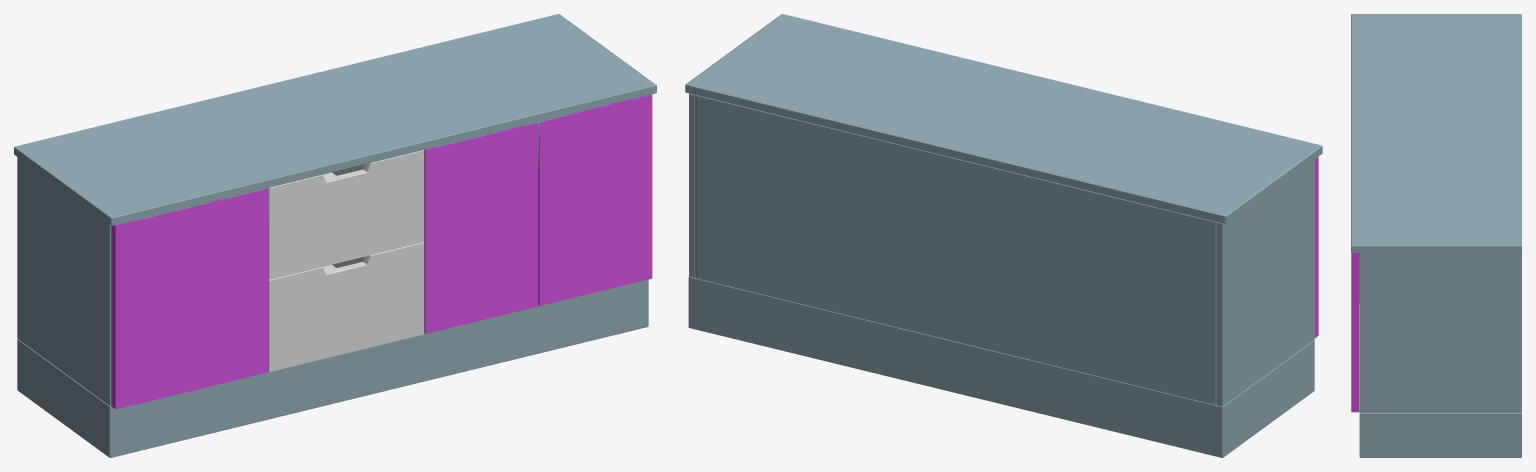
The model's file is armario lavadero.FBX.
The picture shows the model from 3 angles, left to right: view 1: azimuth 30°, elevation 25°; view 2: azimuth 150°, elevation 25°; view 3: azimuth 270°, elevation 25°; orthographic projection. The views are drawn at different scales.
Parts seen in each view (by area): view 1: drawer2, Object003, Object, Object001, drawer, drawer005, Object007; view 2: drawer2, Object007, Object003; view 3: drawer2, Object.
Part boxes in pixels (x1=…): drawer2: x1=14, y1=14, x2=656, y2=457; Object003: x1=111, y1=188, x2=268, y2=409; Object: x1=538, y1=94, x2=652, y2=305; Object001: x1=424, y1=122, x2=538, y2=333; drawer: x1=268, y1=242, x2=424, y2=371; drawer005: x1=268, y1=150, x2=424, y2=279; Object007: x1=17, y1=157, x2=111, y2=406; drawer2: x1=685, y1=14, x2=1322, y2=457; Object007: x1=1216, y1=161, x2=1314, y2=406; Object003: x1=1314, y1=156, x2=1318, y2=338; drawer2: x1=1351, y1=14, x2=1521, y2=457; Object: x1=1351, y1=253, x2=1359, y2=412.
Size of the model in its own units: 139 by 59.61 by 43.16.
